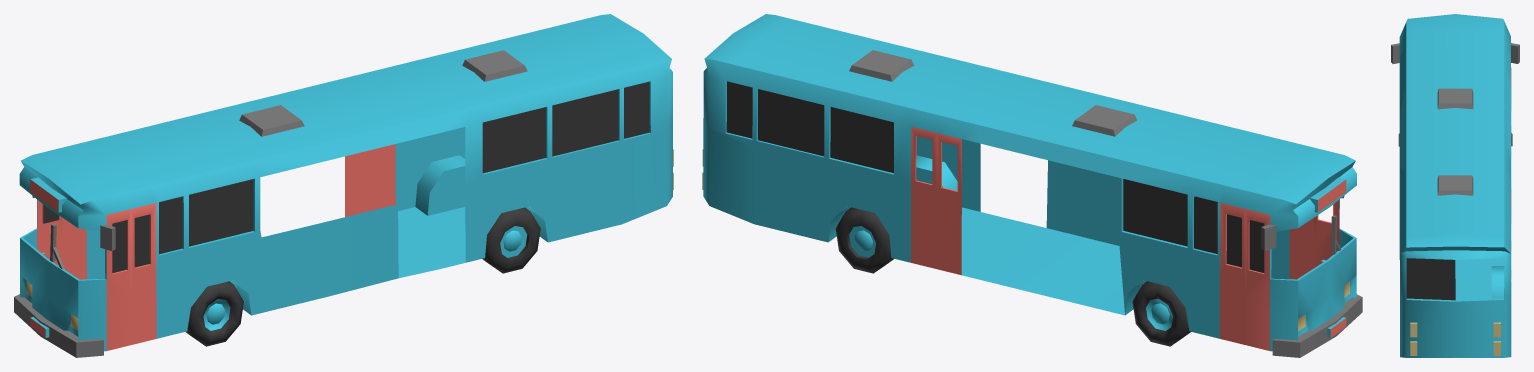
The model's file is M_Bus.fbx.
The picture shows the model from 3 angles, left to right: view 1: azimuth 30°, elevation 25°; view 2: azimuth 150°, elevation 25°; view 3: azimuth 270°, elevation 25°; orthographic projection. The views are drawn at different scales.
Visible parts, largest first — view 1: M_Bus, WheelB-3, WheelB-4; view 2: M_Bus, WheelB-1, WheelB-2; view 3: M_Bus.
Boxes of the visible parts, <box> form: M_Bus: <box>14,14,673,357</box>; WheelB-3: <box>482,207,540,273</box>; WheelB-4: <box>185,281,243,346</box>; M_Bus: <box>702,14,1362,357</box>; WheelB-1: <box>835,207,893,273</box>; WheelB-2: <box>1132,281,1190,346</box>; M_Bus: <box>1391,14,1519,357</box>.
Size of the model in its own units: 4.4 by 1.27 by 1.01.
